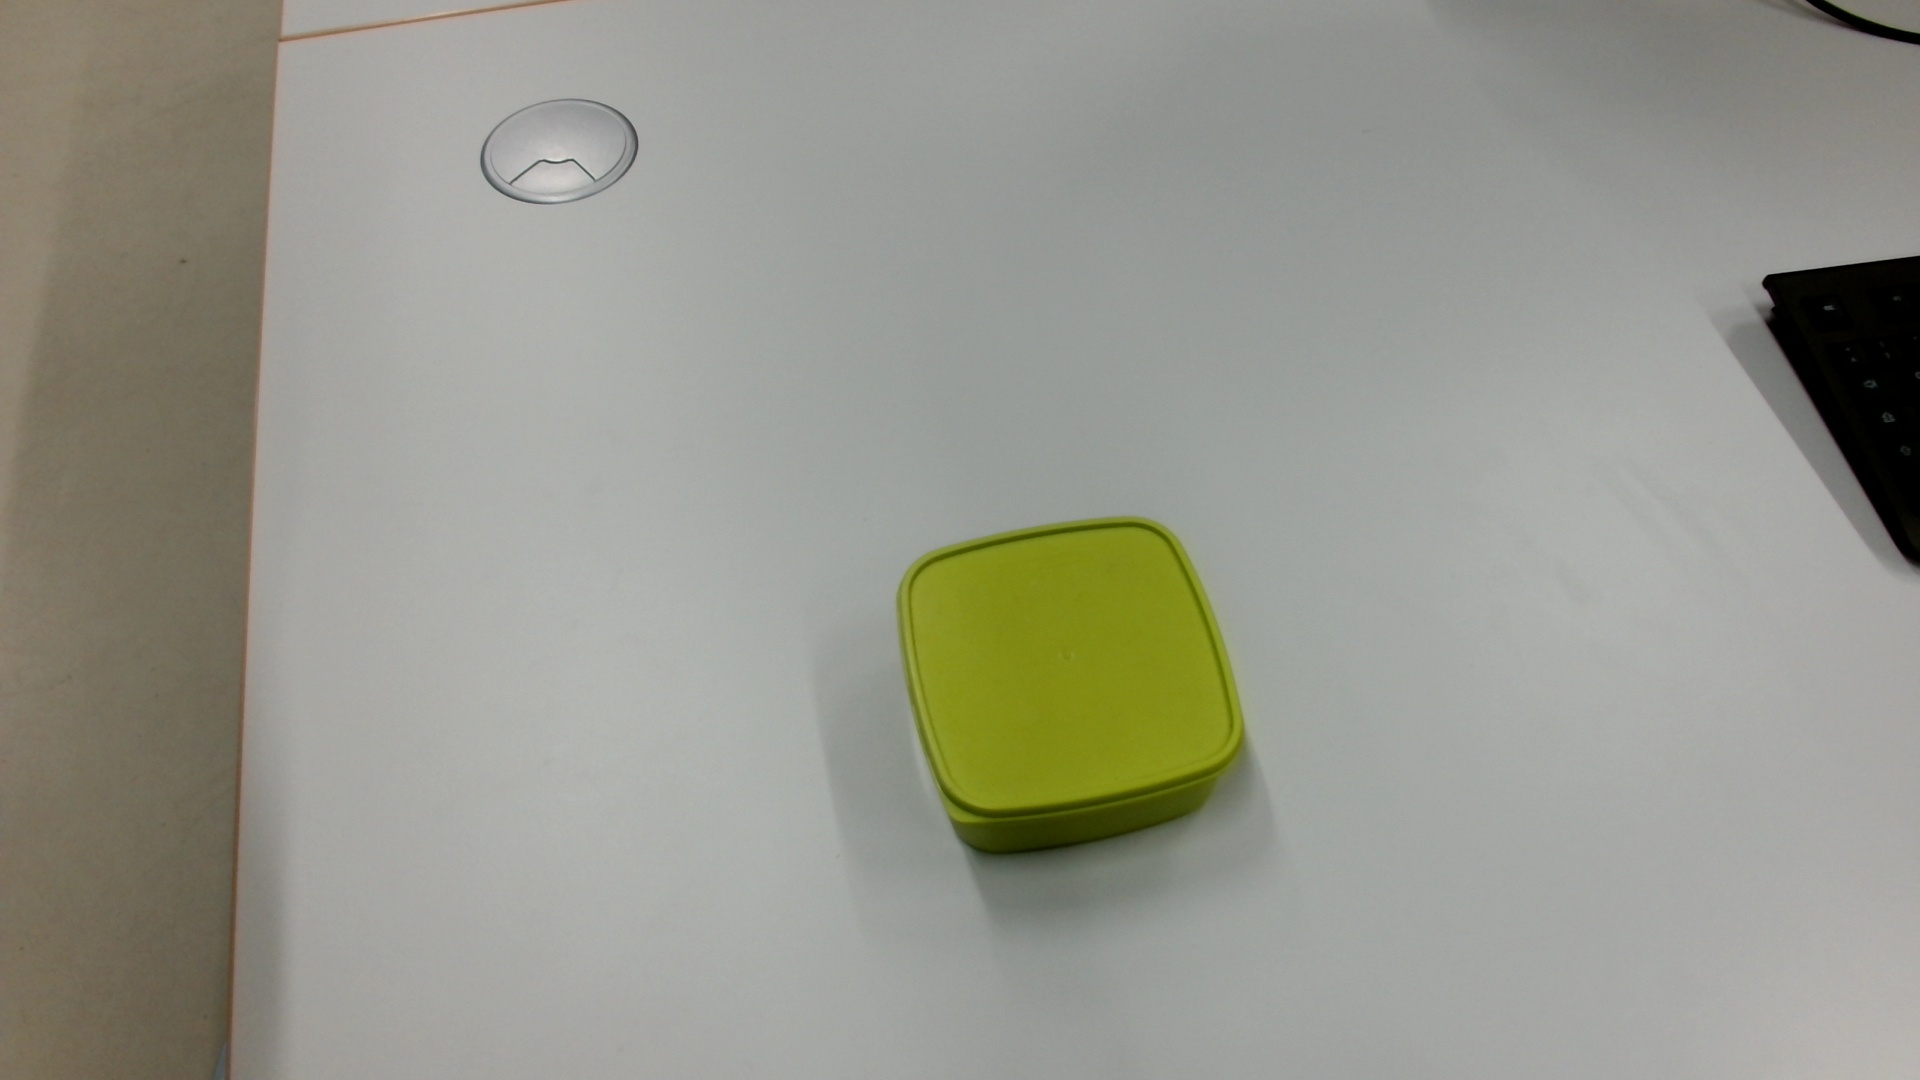Box: (887, 509, 1253, 864)
